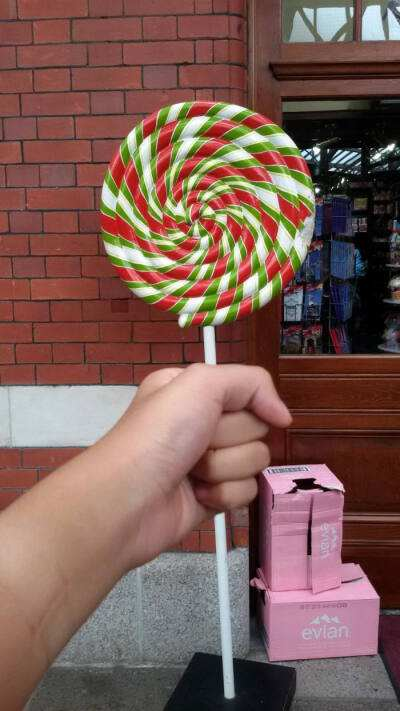no-phone: (61, 96, 316, 576)
